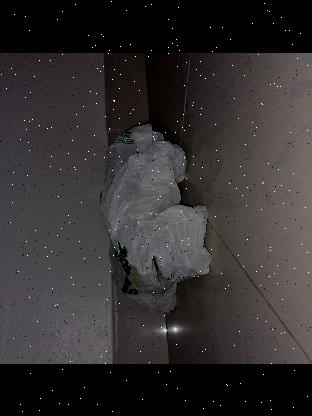Others: (100, 121, 210, 312)
